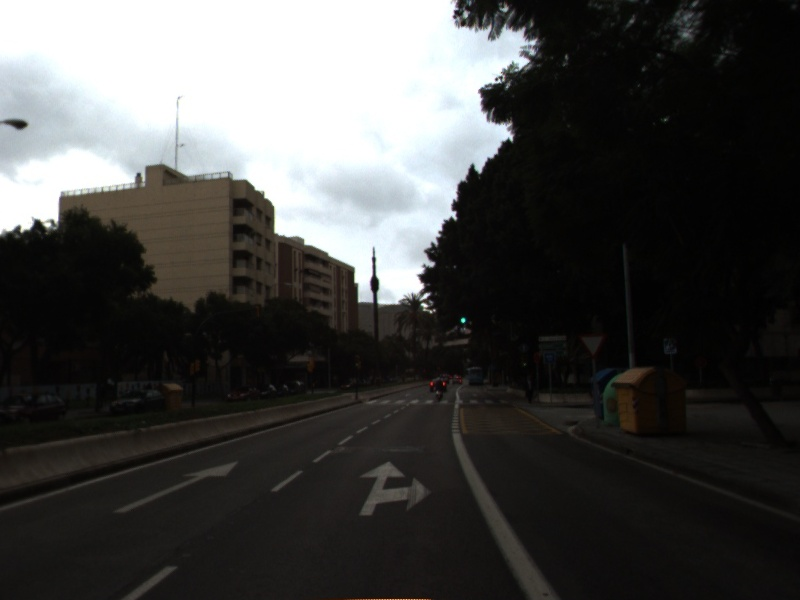STRAIGHT: (111, 457, 243, 516)
STRAIGHT_RIGHT: (356, 458, 435, 518)
